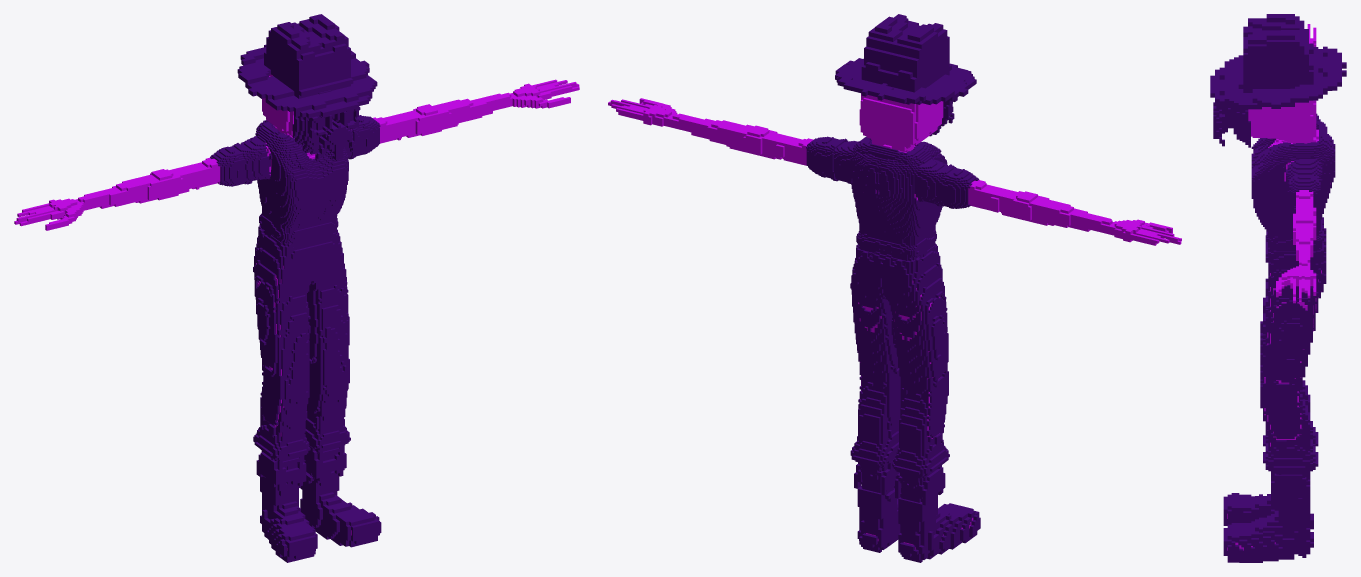
The model's file is Mad Gasser of Mattoon.fbx.
3 renders of one model, left to right at view 1: azimuth 30°, elevation 25°; view 2: azimuth 150°, elevation 25°; view 3: azimuth 270°, elevation 25°, orthographic.
Visible parts, largest first — view 1: Modelo modificado.006, Modelo modificado.005, Modelo modificado.008, Modelo modificado.004, Modelo modificado.007, Modelo modificado.009; view 2: Modelo modificado.006, Modelo modificado.008, Modelo modificado.005, Modelo modificado.004, Modelo modificado.007; view 3: Modelo modificado.006, Modelo modificado.004, Modelo modificado.005, Modelo modificado.007, Modelo modificado.008, Modelo modificado.009.
Boxes of the visible parts, bbox=[...] form: Modelo modificado.006: bbox=[253, 225, 350, 479]; Modelo modificado.005: bbox=[210, 115, 380, 255]; Modelo modificado.008: bbox=[14, 74, 579, 550]; Modelo modificado.004: bbox=[237, 14, 377, 118]; Modelo modificado.007: bbox=[256, 445, 381, 562]; Modelo modificado.009: bbox=[292, 90, 360, 160]; Modelo modificado.006: bbox=[850, 243, 949, 502]; Modelo modificado.008: bbox=[608, 93, 1181, 549]; Modelo modificado.005: bbox=[806, 136, 979, 279]; Modelo modificado.004: bbox=[835, 14, 976, 104]; Modelo modificado.007: bbox=[854, 461, 980, 562]; Modelo modificado.006: bbox=[1260, 228, 1326, 498]; Modelo modificado.004: bbox=[1210, 14, 1346, 109]; Modelo modificado.005: bbox=[1251, 113, 1335, 273]; Modelo modificado.007: bbox=[1223, 472, 1313, 562]; Modelo modificado.008: bbox=[1227, 24, 1330, 550]; Modelo modificado.009: bbox=[1213, 102, 1250, 147].
Size of the model in its own units: 1929 by 1674 by 398.
